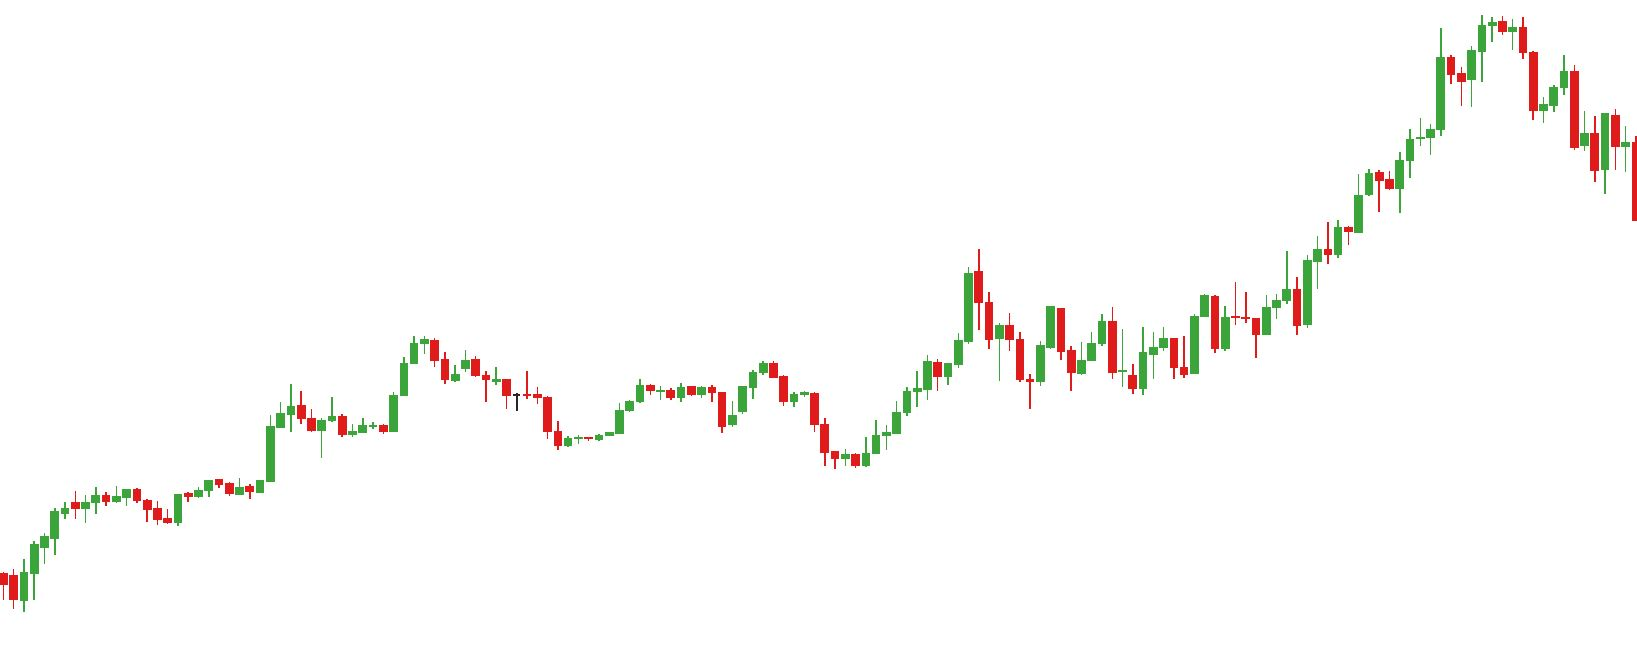buy: (1067, 338, 1150, 395), (1212, 315, 1261, 359)
